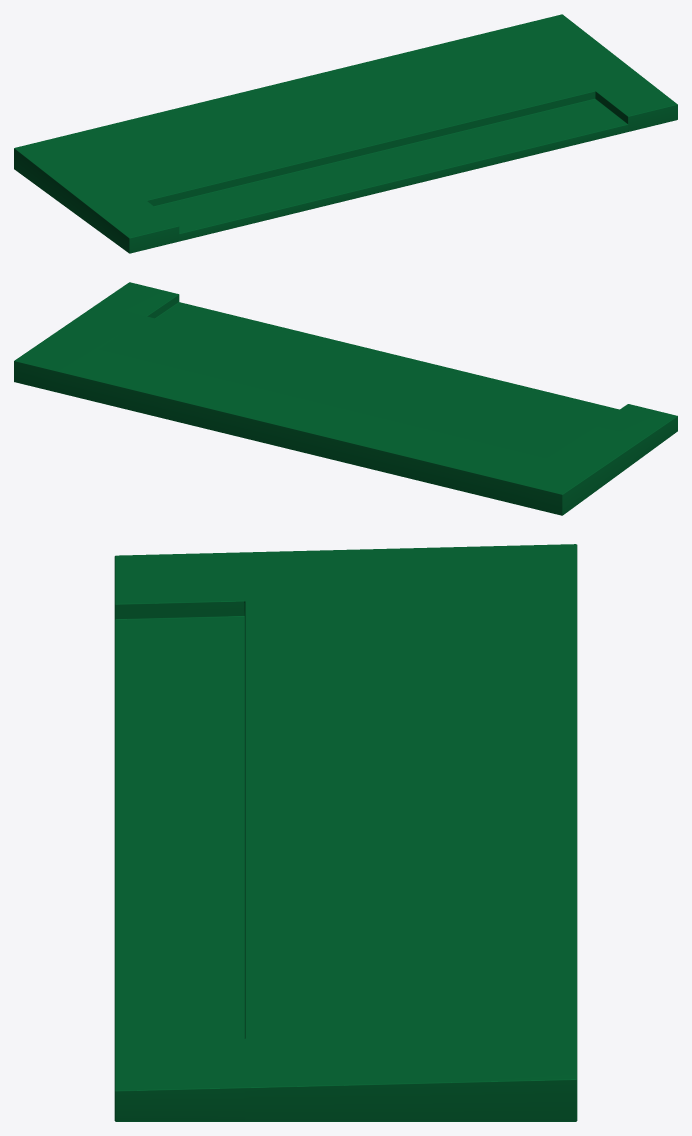
The model's file is Keyboard.fbx.
3 views of the same model, one above another, from view 1: azimuth 30°, elevation 25°; view 2: azimuth 150°, elevation 25°; view 3: azimuth 270°, elevation 25° (orthographic). The views are drawn at different scales.
Visible parts, largest first — view 1: Keybvoard; view 2: Keybvoard; view 3: Keybvoard.
Boxes of the visible parts, <box> form: Keybvoard: <box>14,14,677,253</box>; Keybvoard: <box>14,282,677,515</box>; Keybvoard: <box>114,544,577,1121</box>.
Size of the model in its own units: 136 by 5.06 by 49.51.
